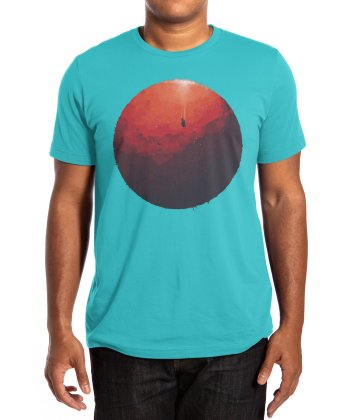design: (109, 75, 245, 213)
